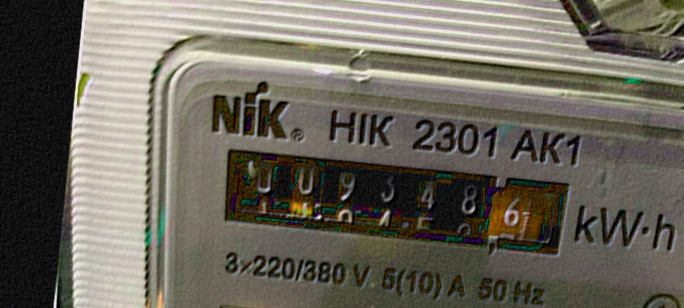0: (293, 161, 318, 199), (253, 159, 276, 196)
3: (375, 170, 400, 205)
4: (415, 174, 439, 213)
6: (500, 193, 526, 229)
8: (458, 181, 481, 217)
9: (336, 167, 358, 202)
screen: (196, 132, 590, 272)
